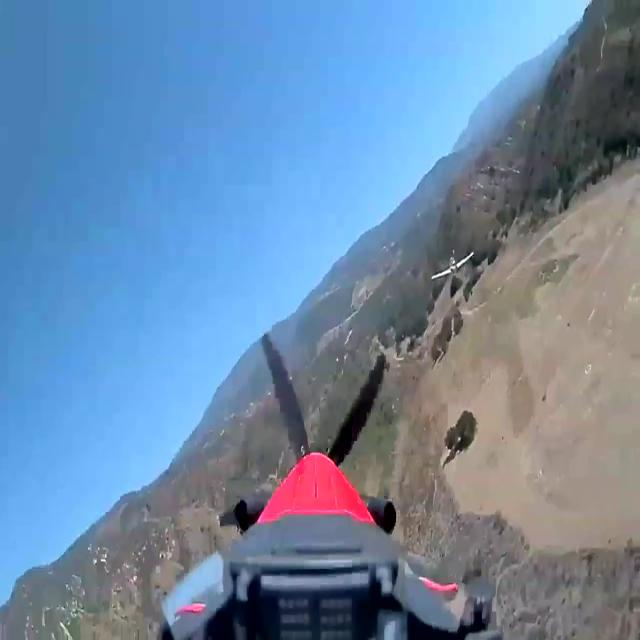iha: (430, 241, 475, 277)
